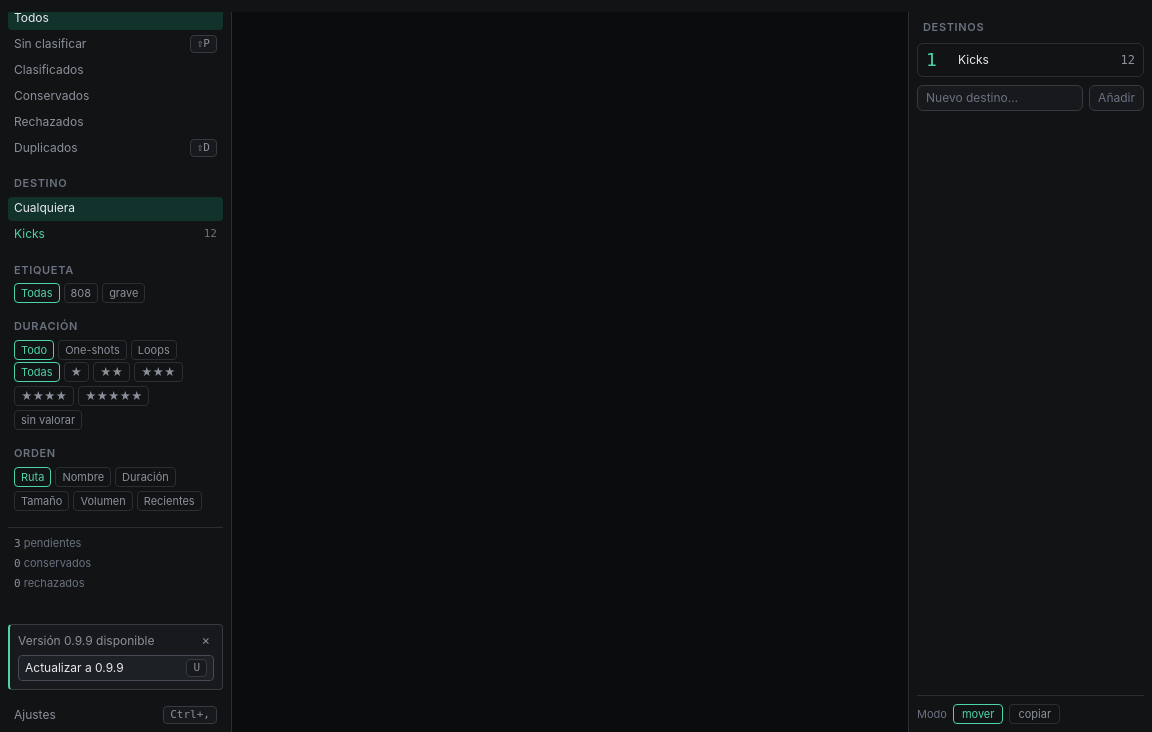
Test: App › el aviso de actualización se puede quitar de en medio
The image size is (1152, 732).
(page scrolled)
What coordinates should you click on to do the following:
click the button named "Ocultar el aviso de actualización"
I would click on:
 (206, 641)
Its box is top-left (197, 634), bottom-right (214, 647).
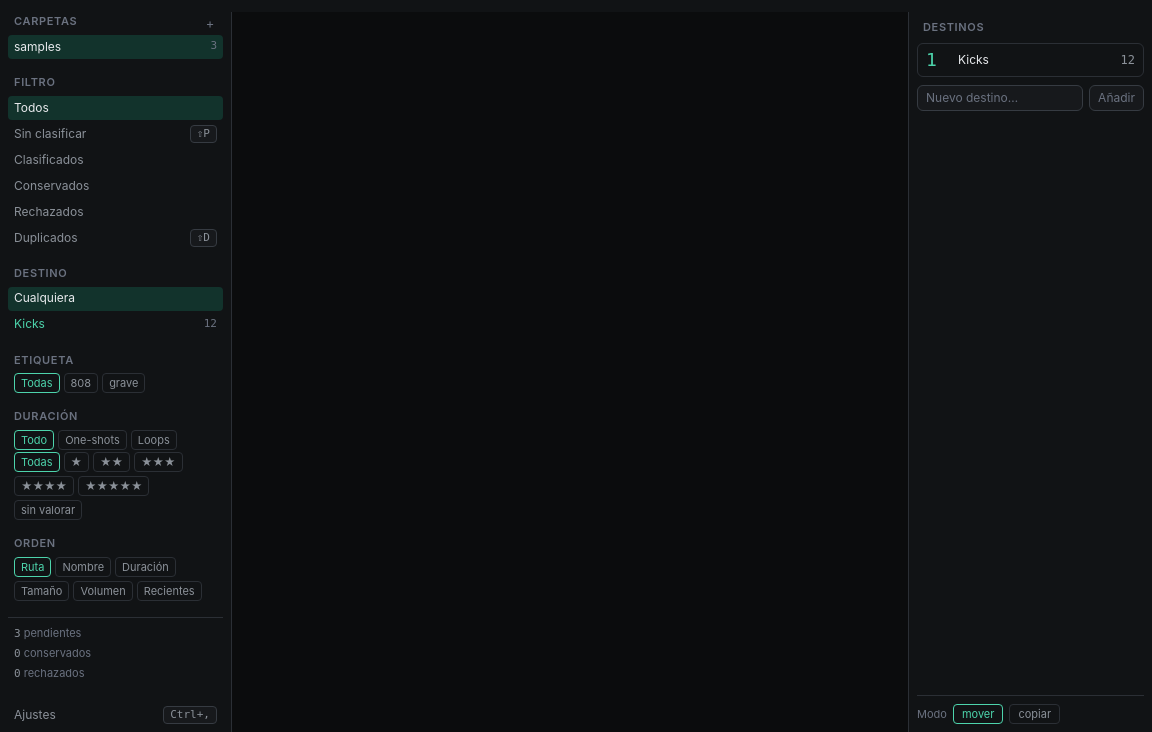
Now the text "Versión 0.9.9 disponible" is gone
